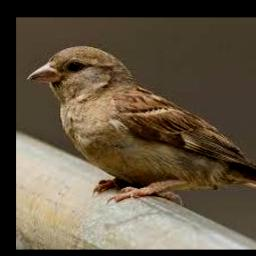Sparrow: (27, 44, 256, 203)
